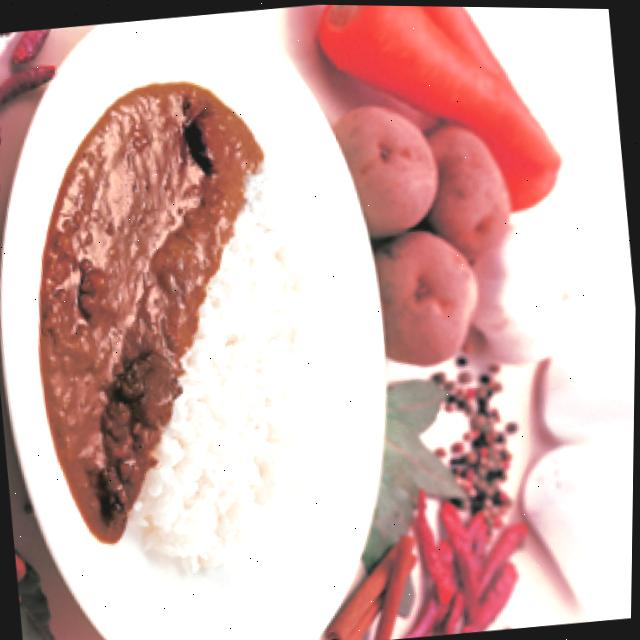牛肉菜式: (2, 39, 366, 616)
